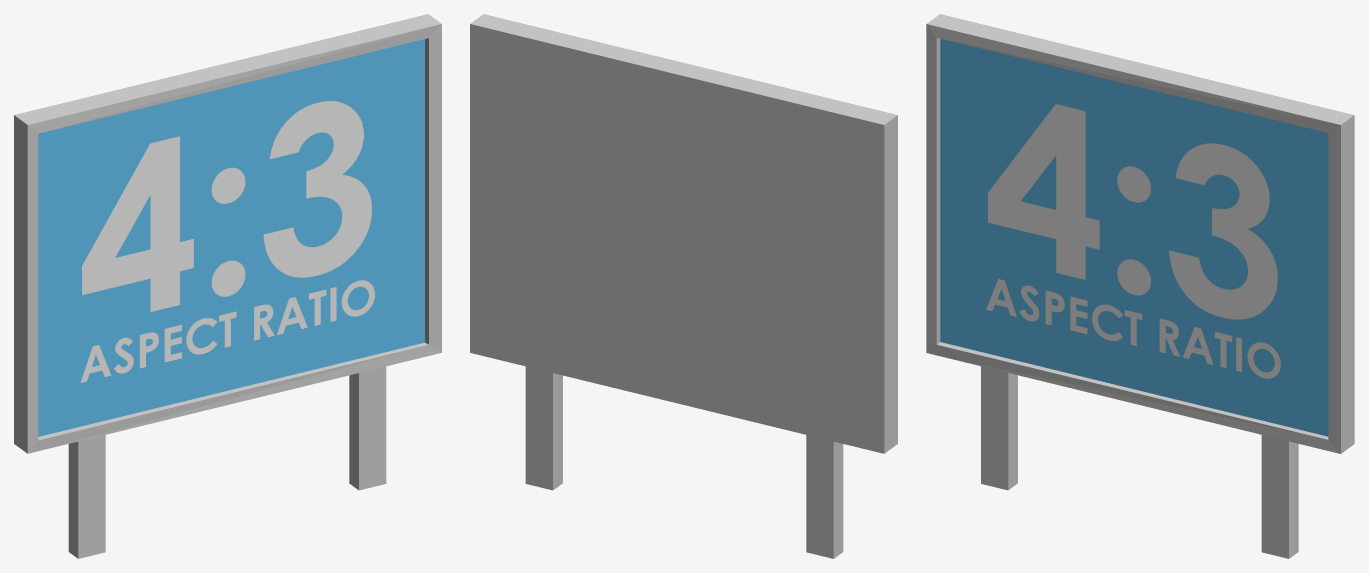
The model's file is simple billboard 4-3 shorter.FBX.
3 renders of one model, left to right at view 1: azimuth 30°, elevation 25°; view 2: azimuth 150°, elevation 25°; view 3: azimuth 330°, elevation 25°, orthographic.
Parts seen in each view (by area): view 1: Object01, Box01; view 2: Box01; view 3: Object01, Box01.
Part boxes in pixels (box(x1,y1,x2,y2)): Object01: box(38, 39, 424, 436); Box01: box(14, 14, 441, 558); Box01: box(470, 14, 897, 558); Object01: box(940, 39, 1328, 436); Box01: box(926, 14, 1354, 558).
Bounding box in the file's own units: 12.48 × 12.91 × 0.723.
Materials: 2 (1 with a texture image).
